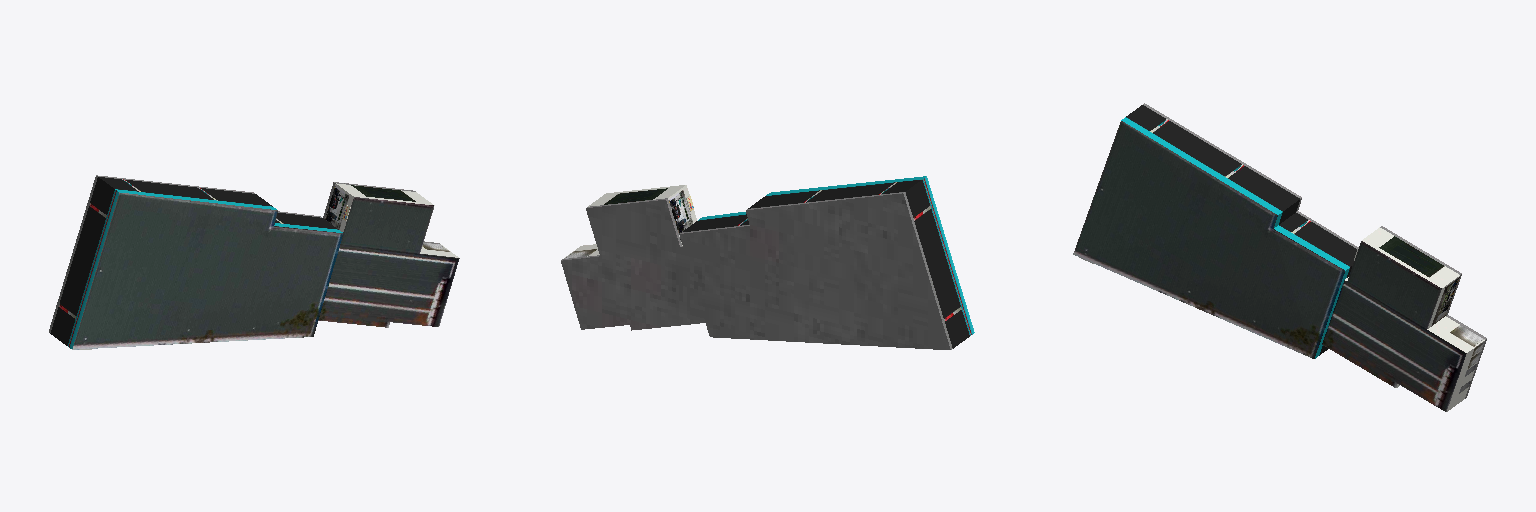
3 renders of one model, left to right at view 1: azimuth 30°, elevation 25°; view 2: azimuth 150°, elevation 25°; view 3: azimuth 330°, elevation 25°, orthographic.
Parts seen in each view (by area): view 1: polygon.757; view 2: polygon.757; view 3: polygon.757.
Boxes of the visible parts, x1,y1,x2,y2 form: polygon.757: [49, 175, 459, 349]; polygon.757: [561, 176, 974, 349]; polygon.757: [1073, 103, 1486, 411].
Bounding box in the file's own units: 56.14 × 29.6 × 6.16.
Materials: 1 (1 with a texture image).